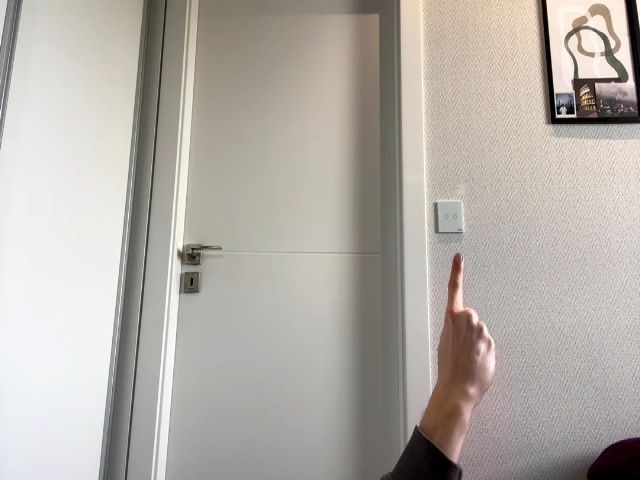D: (438, 253, 495, 401)
